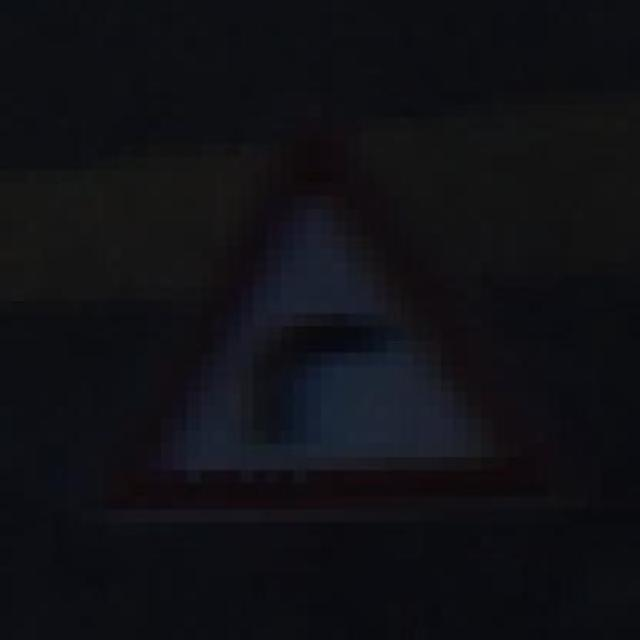Dangerous Rright Curve Ahead: (80, 91, 574, 522)
